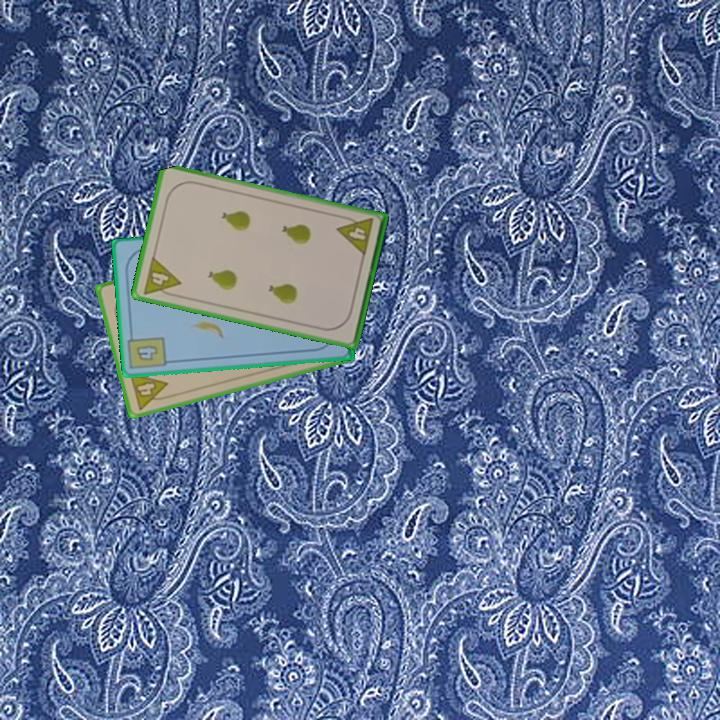4b: (126, 329, 170, 370)
4p: (139, 253, 184, 301), (126, 369, 174, 413), (334, 212, 376, 259)
